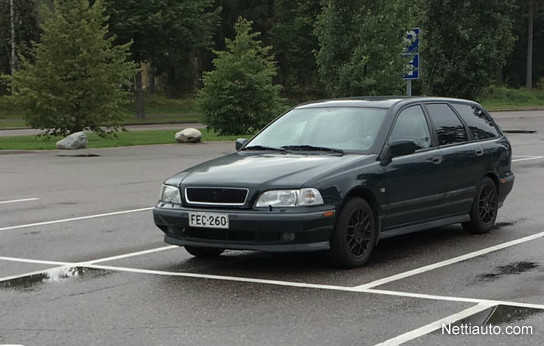car: (150, 94, 515, 266)
